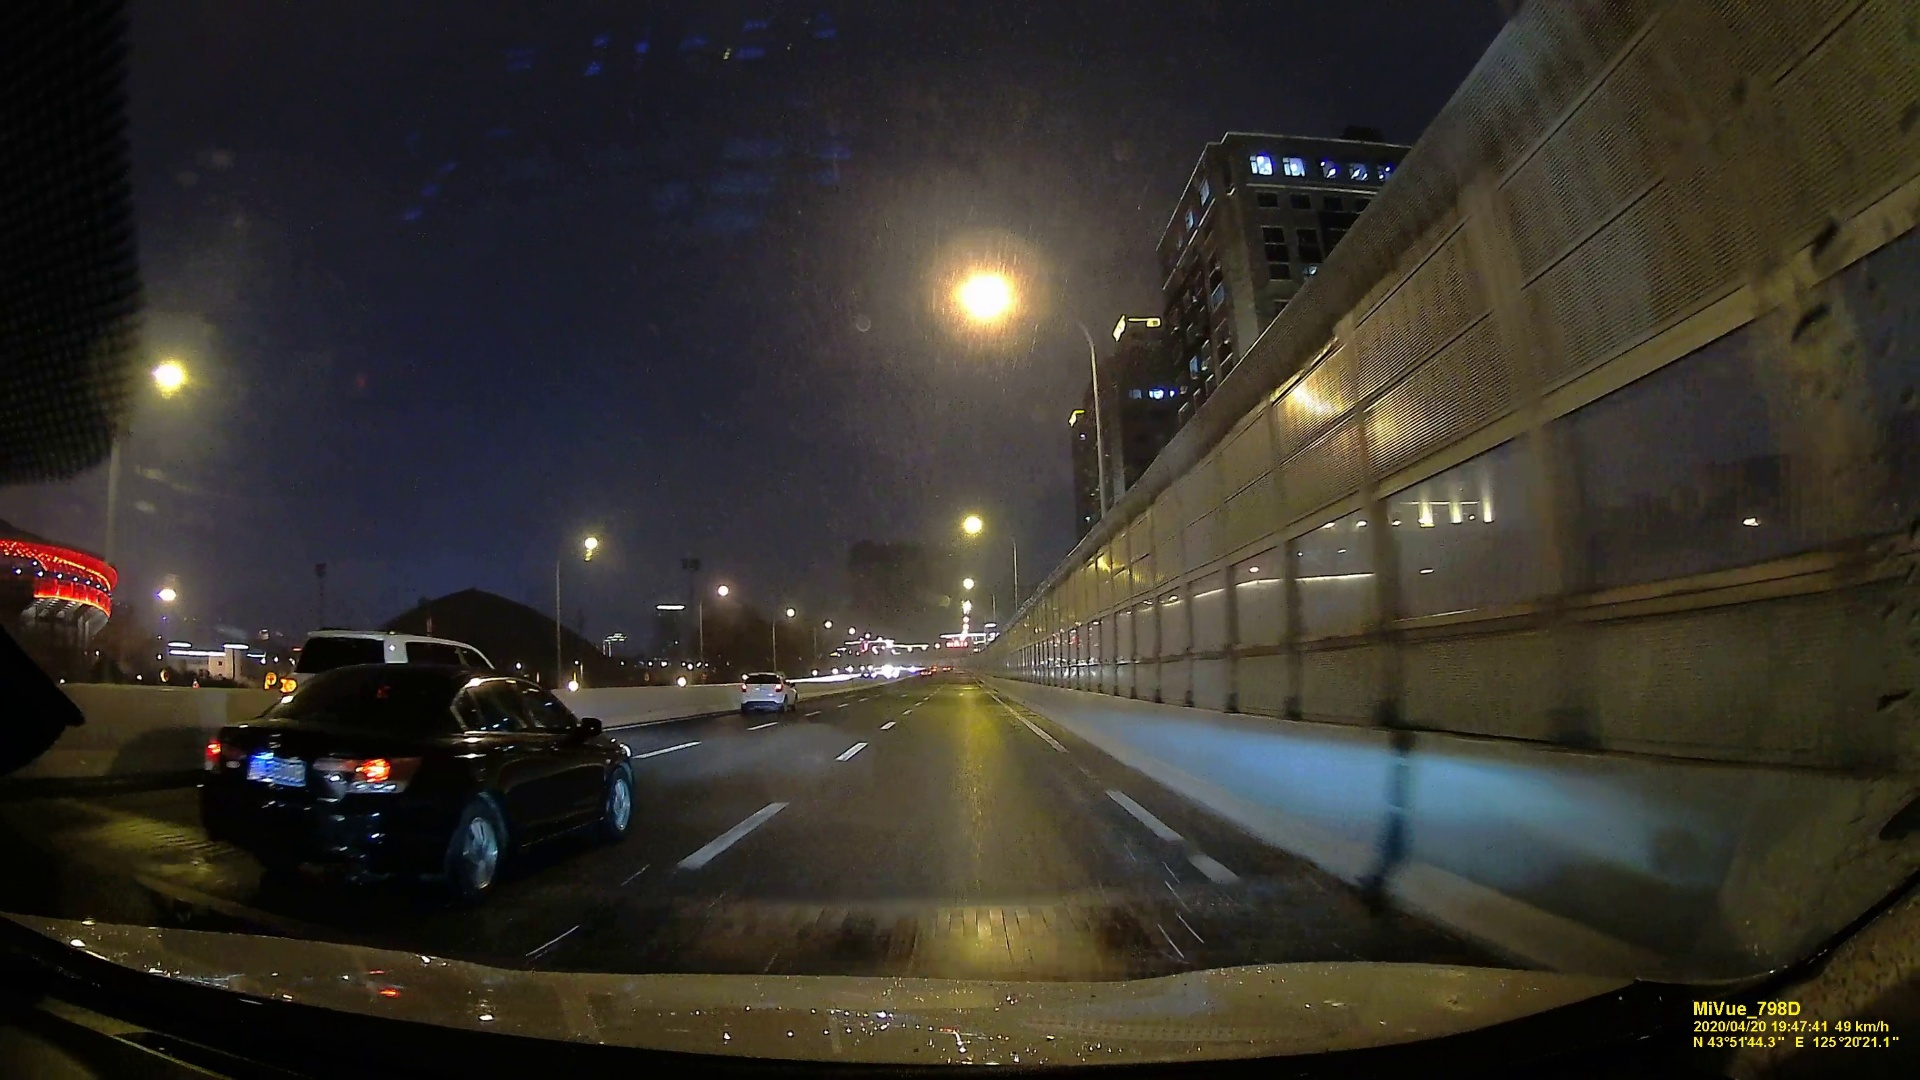vehicle: (198, 669, 632, 909), (735, 669, 796, 713)
